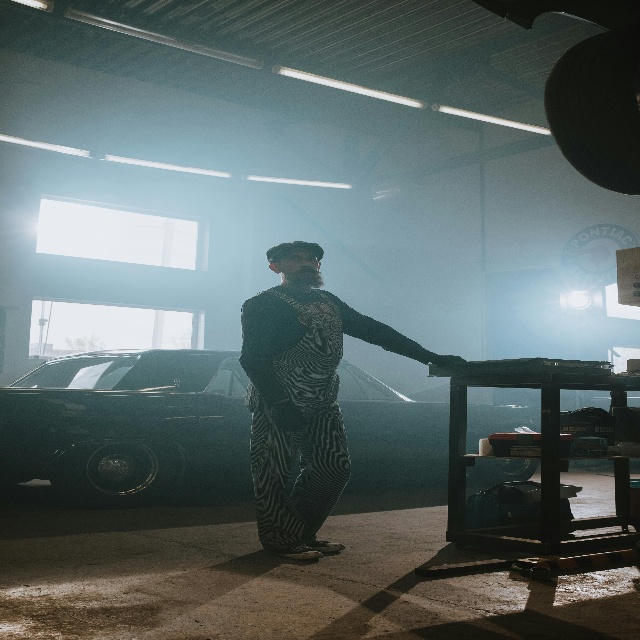Guantes: (272, 398, 308, 431), (431, 348, 467, 369)
